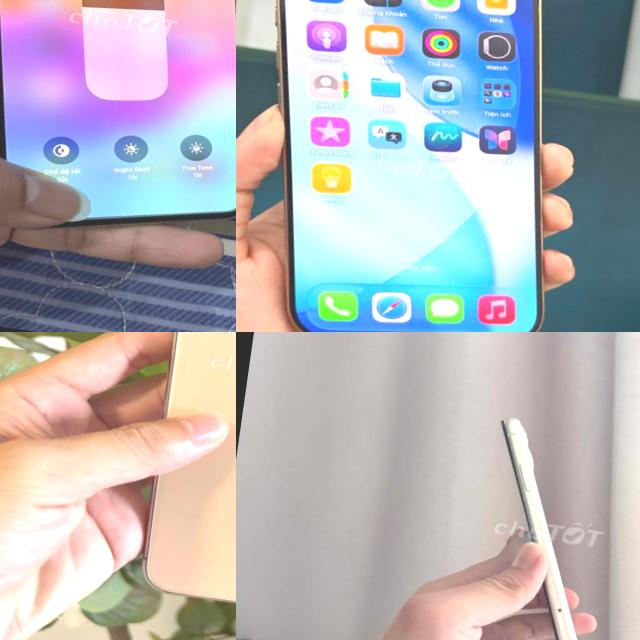gen_11: (0, 0, 236, 252), (125, 332, 236, 631), (503, 418, 577, 640)
gen_16: (276, 0, 547, 332)
